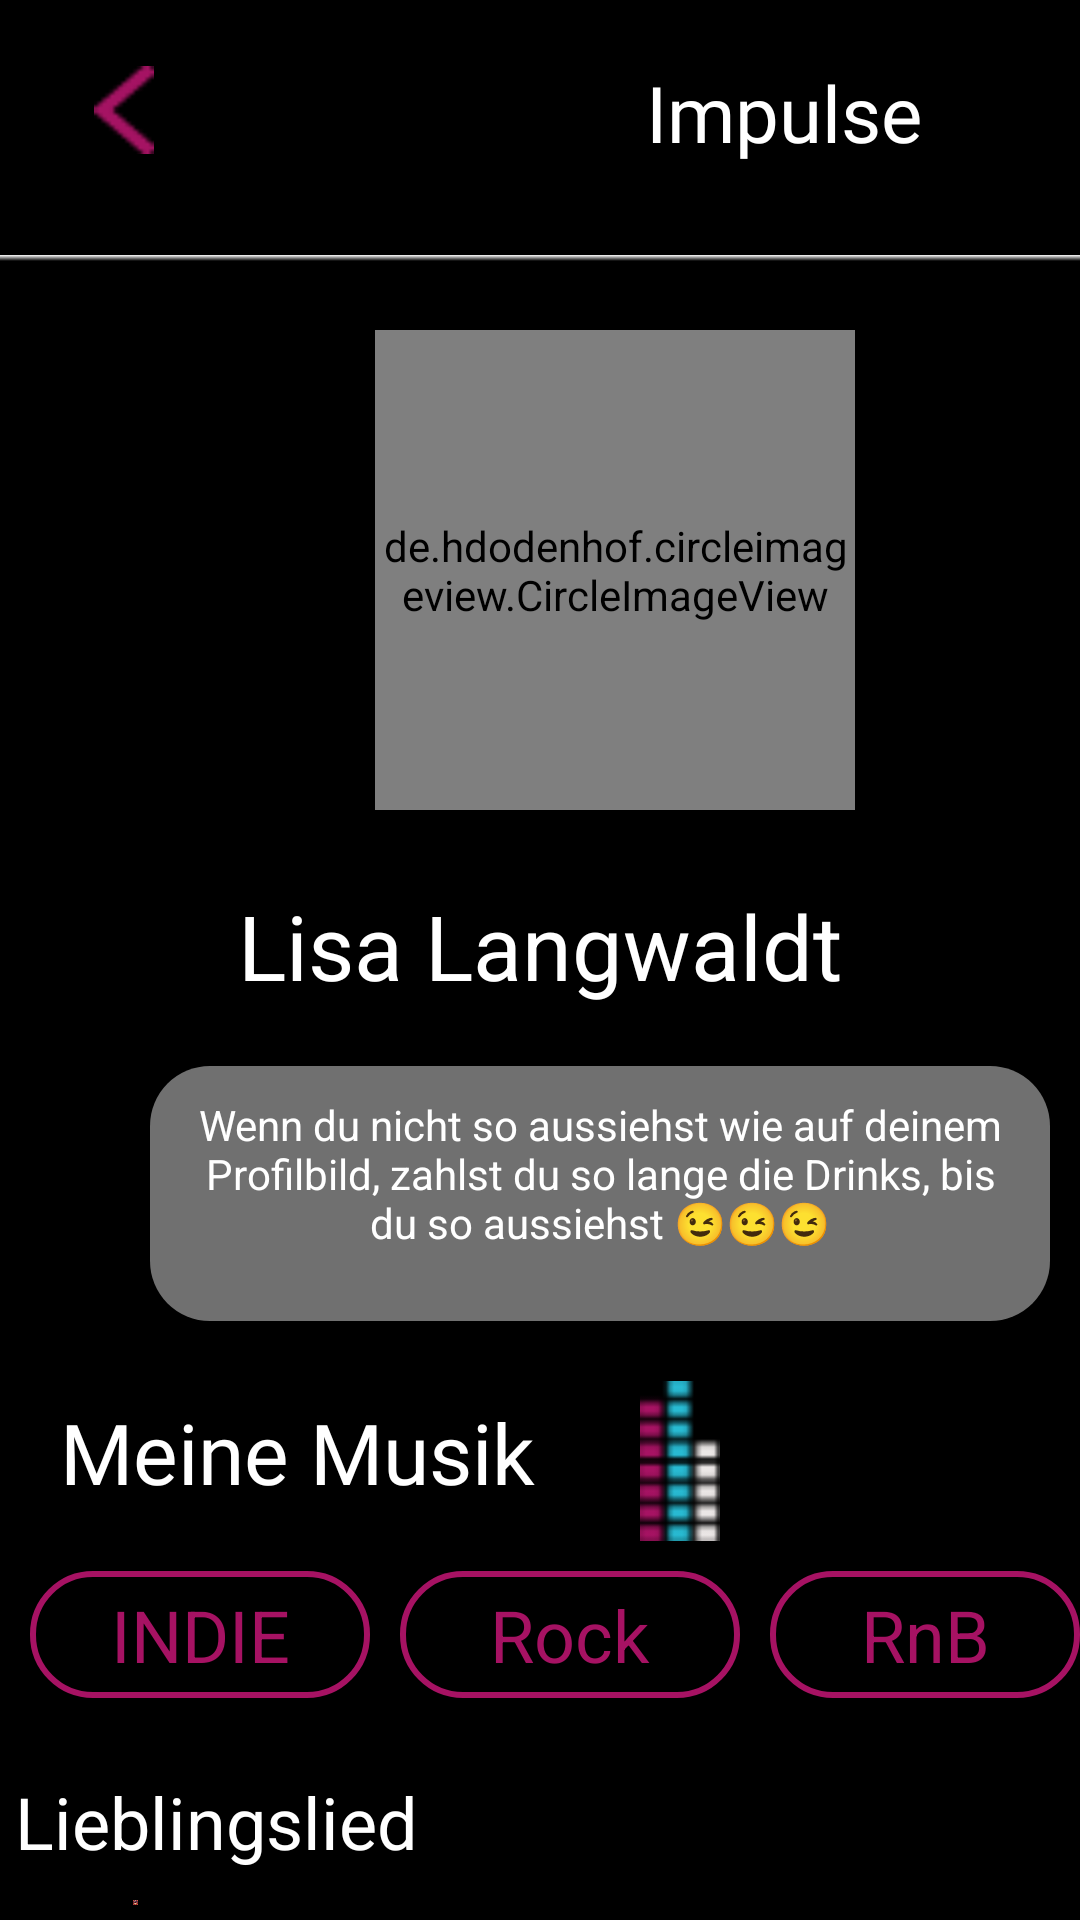

Named icons in this screenshot (1080 x 1920) and their bounding boxes, [left=x1, top=y1, right=x2, bottom=y2]:
zurueck: [left=94, top=66, right=154, bottom=154]
